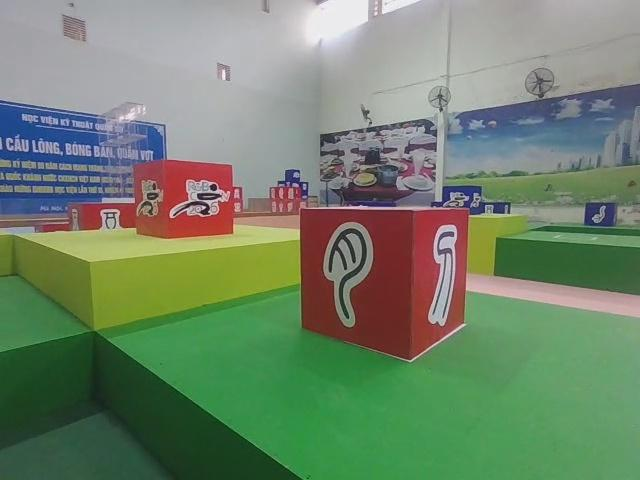R1: (135, 160, 231, 238)
R2 Fake: (299, 207, 467, 361)
